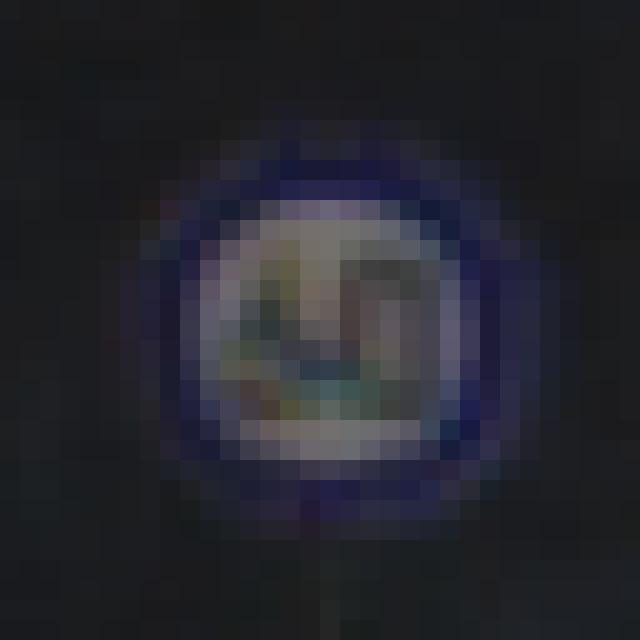SPEED-LIMIT-60: (118, 102, 563, 541)
